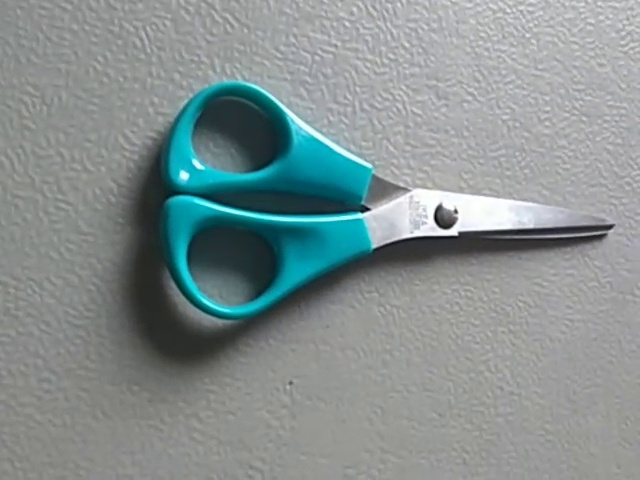Sizer: (151, 59, 621, 327)
